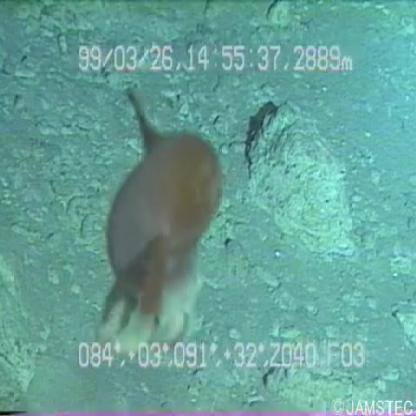Bio: (87, 84, 229, 363)
